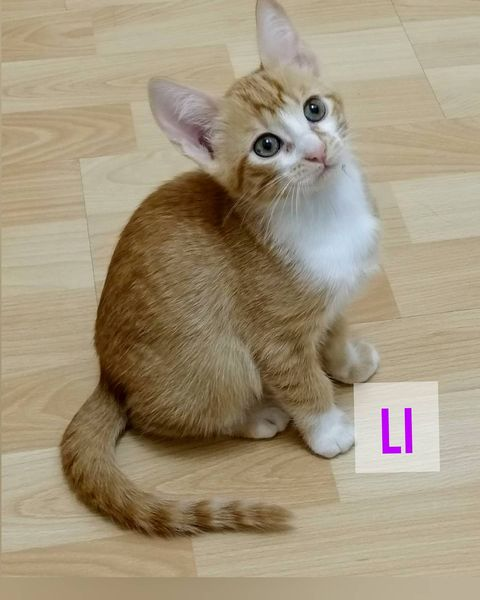cat: (46, 1, 379, 554)
